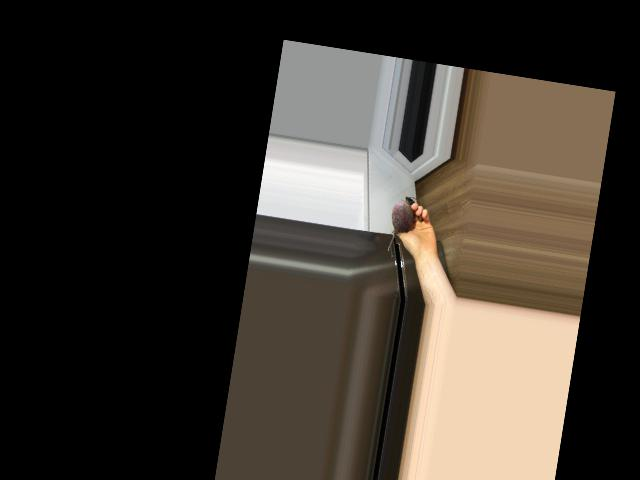beet: (386, 193, 417, 253)
